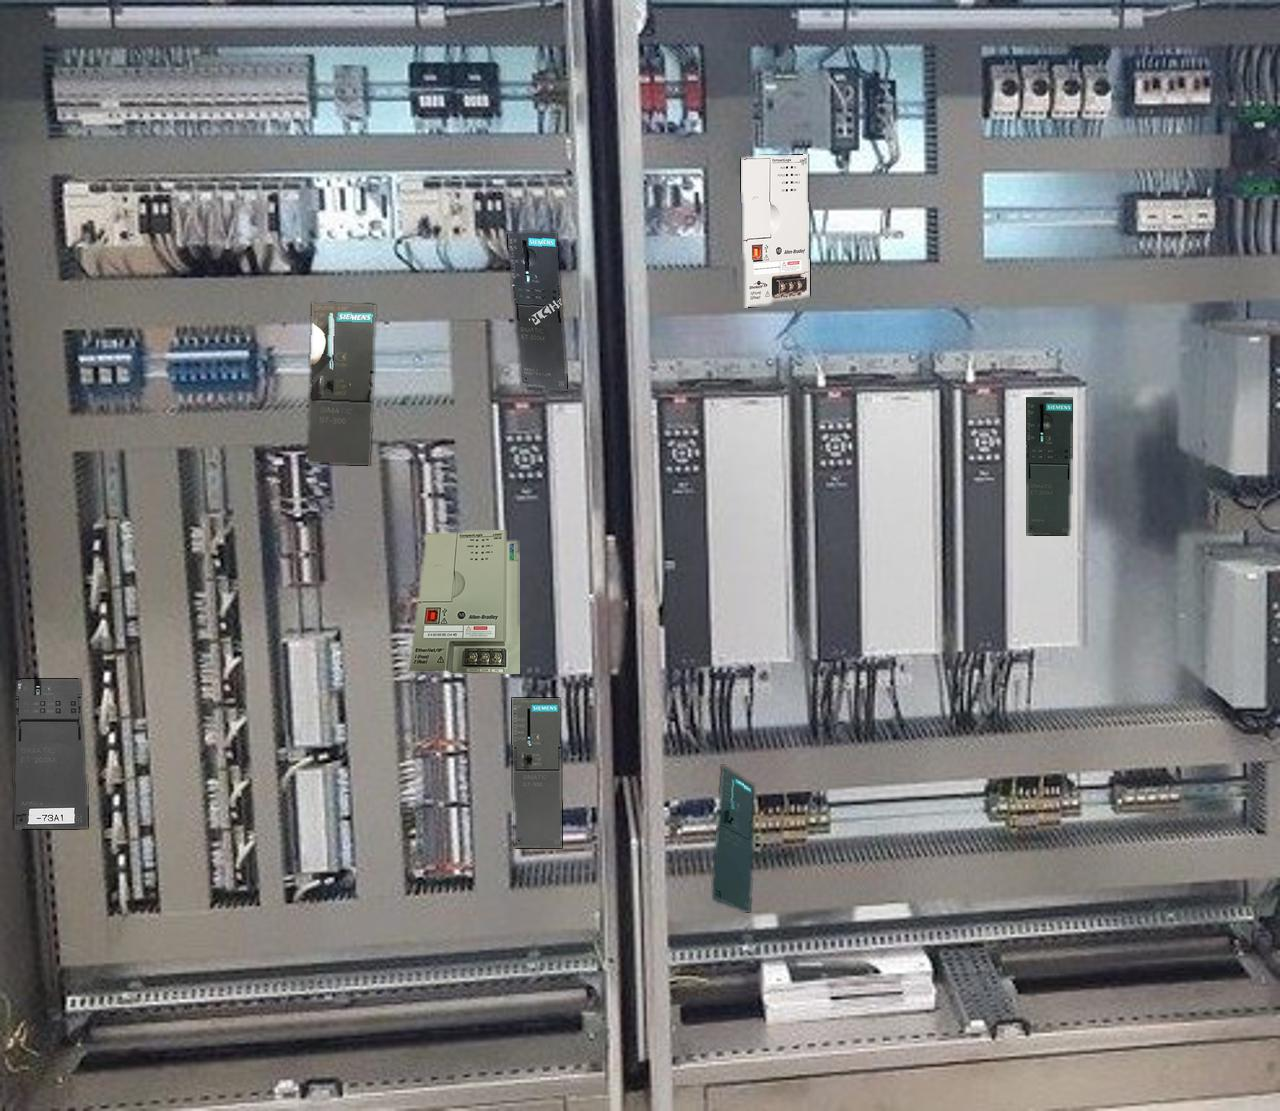AllenBradley: (409, 530, 519, 672), (741, 155, 809, 307)
Siemens: (307, 303, 376, 465), (512, 698, 561, 847), (713, 765, 753, 911)
